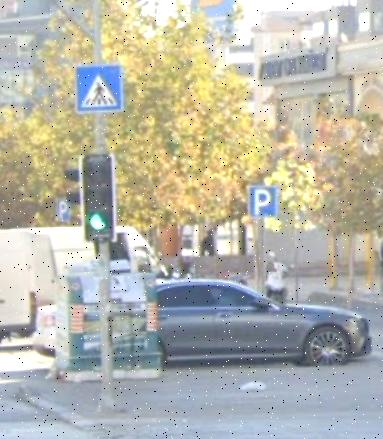greenlight: (82, 155, 115, 237)
park: (247, 186, 279, 218)
